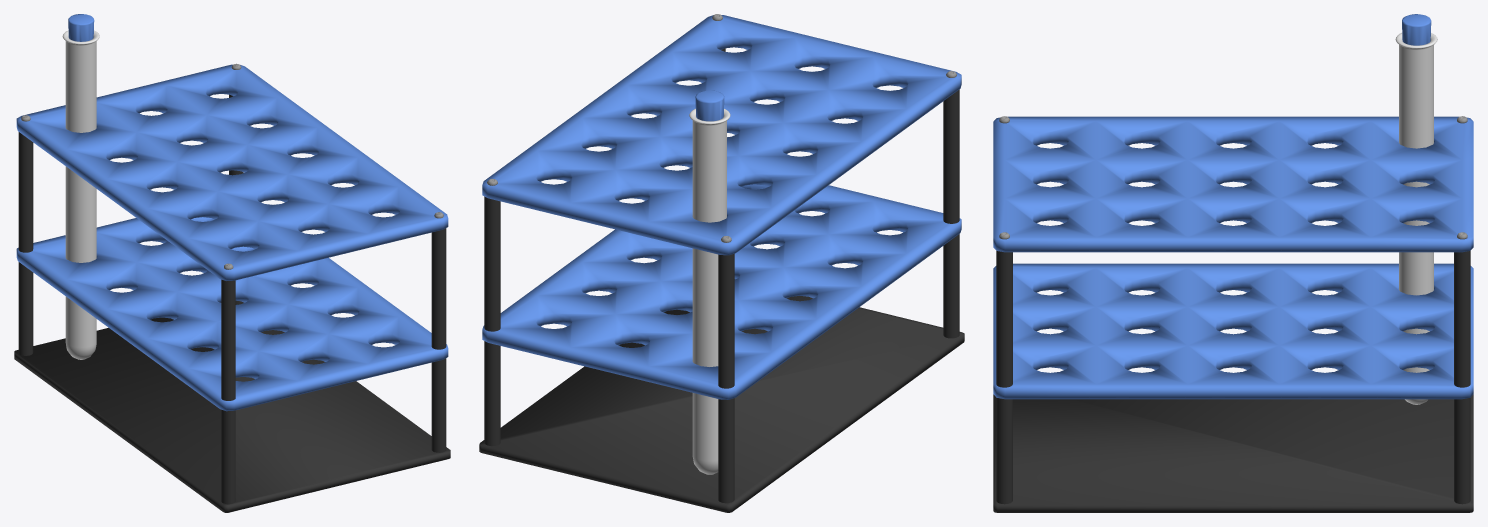
The model's file is TestTubeRack.fbx.
The picture shows the model from 3 angles, left to right: view 1: azimuth 30°, elevation 25°; view 2: azimuth 150°, elevation 25°; view 3: azimuth 270°, elevation 25°; orthographic projection. The views are drawn at different scales.
Parts seen in each view (by area): view 1: Plane, test_tube_50ml, test_tube01.001; view 2: Plane, test_tube_50ml, test_tube01.001; view 3: Plane, test_tube_50ml, test_tube01.001.
Boxes of the visible parts, left/top/right/bottom form: Plane: left=14, top=63, right=450, bottom=512; test_tube_50ml: left=62, top=30, right=99, bottom=359; test_tube01.001: left=68, top=14, right=94, bottom=41; Plane: left=479, top=14, right=964, bottom=512; test_tube_50ml: left=689, top=108, right=730, bottom=474; test_tube01.001: left=695, top=90, right=724, bottom=121; Plane: left=993, top=116, right=1473, bottom=512; test_tube_50ml: left=1395, top=33, right=1437, bottom=404; test_tube01.001: left=1402, top=14, right=1431, bottom=45.
Size of the model in its own units: 18.34 by 26.76 by 29.73.
